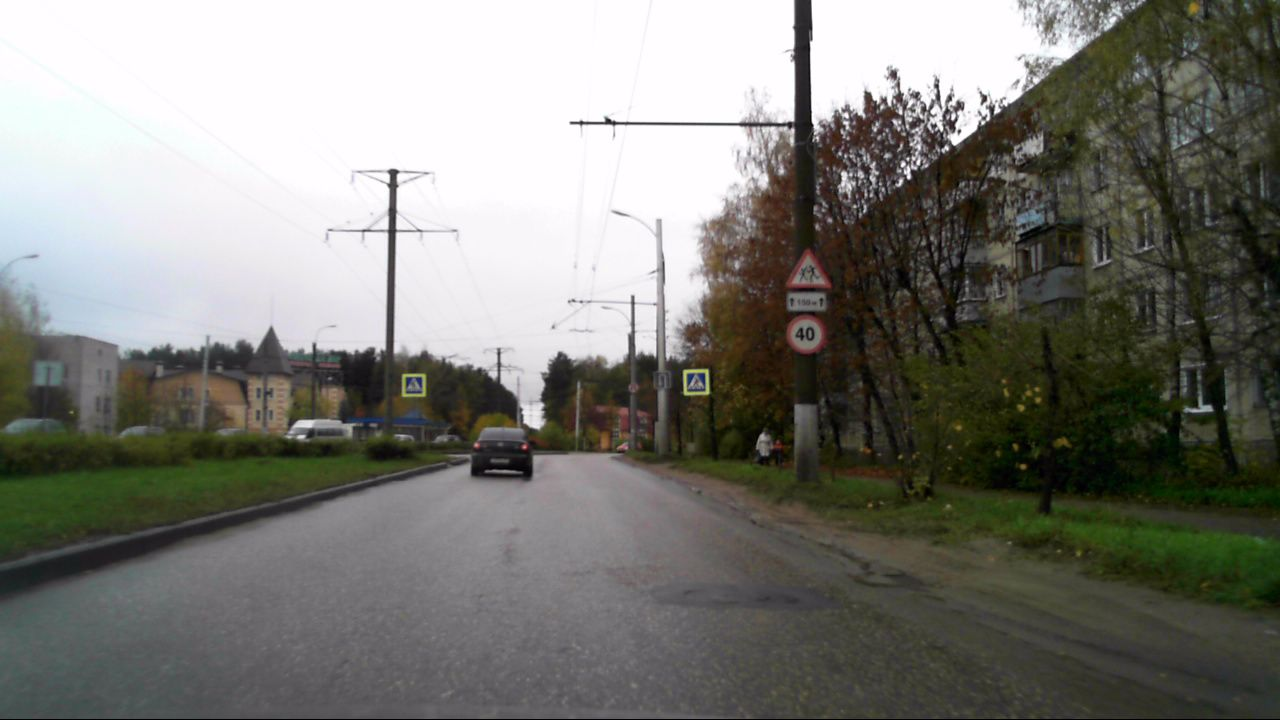Pedestrian Crossing: (686, 373, 707, 391), (405, 377, 423, 393)
U-turn: (655, 372, 669, 388)
speed_warning_40: (786, 315, 825, 354)
